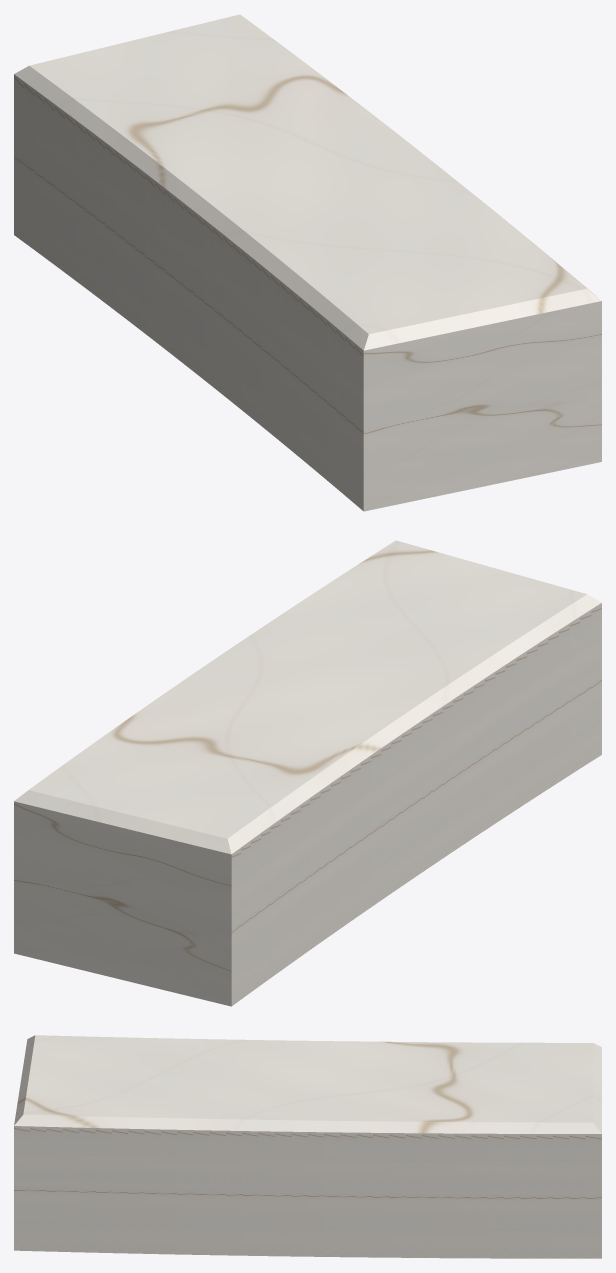
File: f01-g-cream-marble-pool-trim-half.glb
3 views of the same model, one above another, from view 1: azimuth 30°, elevation 25°; view 2: azimuth 150°, elevation 25°; view 3: azimuth 270°, elevation 25° (orthographic). The views are drawn at different scales.
Parts seen in each view (by area): view 1: S7-FLOOR-F01-G-half - genuine curved poolside marble edging; view 2: S7-FLOOR-F01-G-half - genuine curved poolside marble edging; view 3: S7-FLOOR-F01-G-half - genuine curved poolside marble edging.
Part boxes in pixels (left/top/right/bottom): S7-FLOOR-F01-G-half - genuine curved poolside marble edging: left=14, top=14, right=601, bottom=511; S7-FLOOR-F01-G-half - genuine curved poolside marble edging: left=14, top=540, right=601, bottom=1006; S7-FLOOR-F01-G-half - genuine curved poolside marble edging: left=14, top=1035, right=601, bottom=1258.
Size of the model in its own units: 0.2074 by 0.135 by 0.5427.
Materials: 1 (1 with a texture image).
